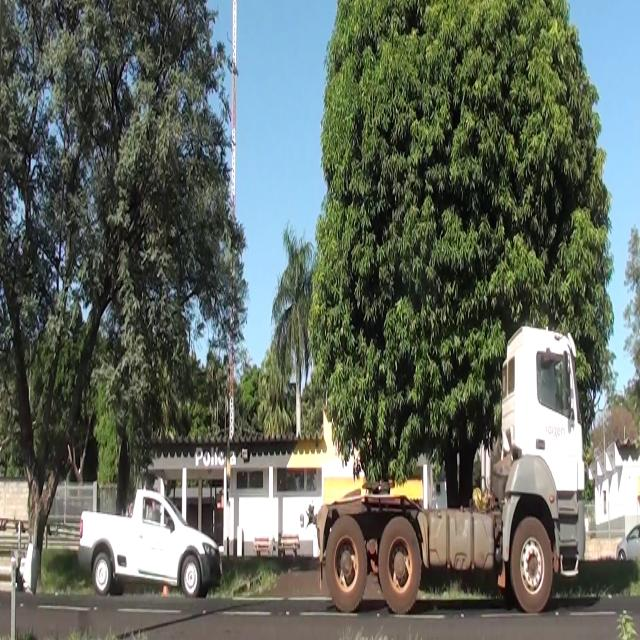-axle: (378, 519, 424, 615), (324, 514, 368, 612), (512, 517, 556, 613)
